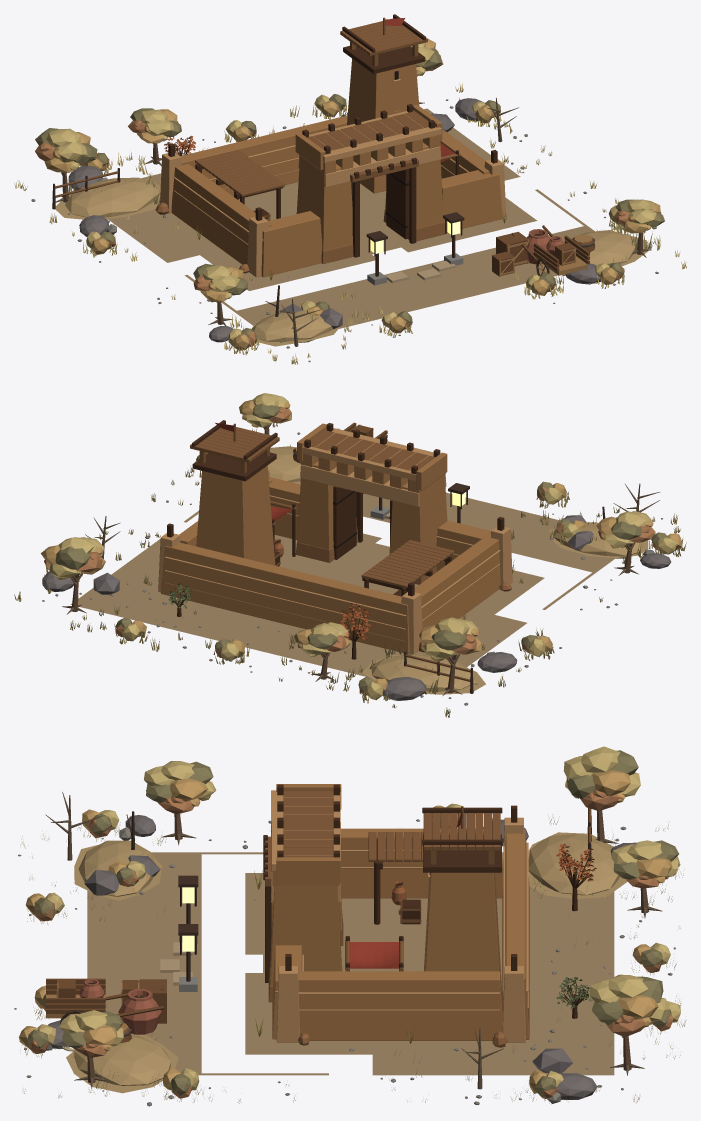
File: yumenguan.glb
3 views of the same model, one above another, from view 1: azimuth 30°, elevation 25°; view 2: azimuth 150°, elevation 25°; view 3: azimuth 270°, elevation 25° (orthographic). The views are drawn at different scales.
Parts seen in each view (by area): view 1: yumenguan; view 2: yumenguan; view 3: yumenguan.
Boxes of the visible parts, x1,y1,x2,y2 form: yumenguan: (14,14,686,364); yumenguan: (14,393,686,717); yumenguan: (14,746,685,1106).
Bounding box in the file's own units: 7.75 × 2.64 × 7.66.
